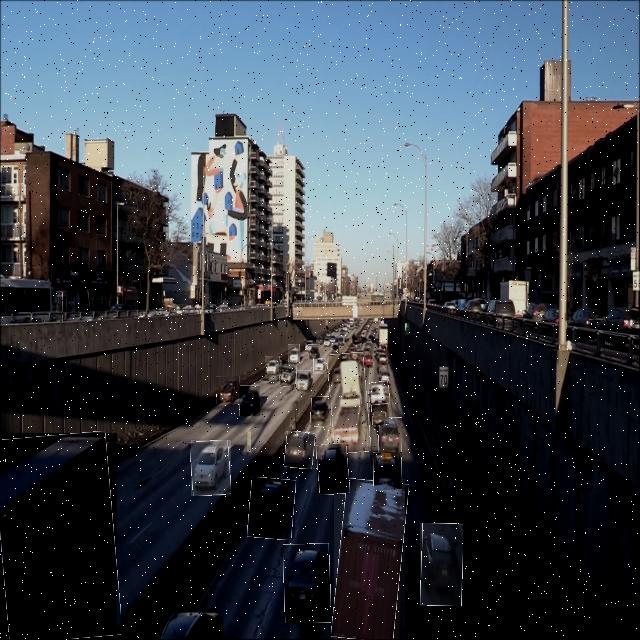Car: (284, 544, 330, 623), (420, 523, 463, 606), (249, 478, 295, 539), (191, 440, 231, 496), (317, 444, 349, 494), (285, 431, 315, 469), (374, 452, 402, 490), (379, 417, 402, 452), (216, 376, 240, 404), (239, 385, 260, 416), (311, 397, 332, 427), (369, 381, 390, 405), (372, 398, 389, 425), (280, 360, 296, 387), (296, 370, 311, 393), (266, 356, 282, 376), (288, 344, 300, 362), (313, 358, 326, 374), (308, 344, 320, 359)
Truck: (0, 433, 117, 640), (334, 479, 405, 640), (329, 352, 369, 452)
